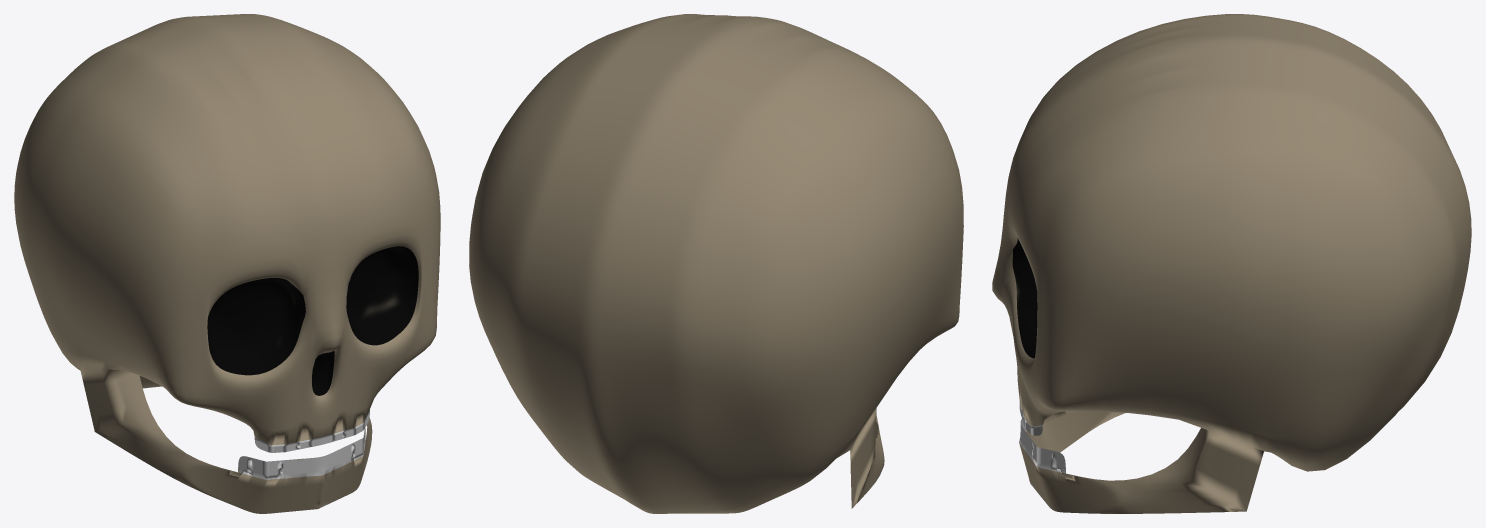
The model's file is Skull_test1.glb.
3 views of the same model, side by side, from view 1: azimuth 30°, elevation 25°; view 2: azimuth 150°, elevation 25°; view 3: azimuth 270°, elevation 25° (orthographic). The views are drawn at different scales.
Visible parts, largest first — view 1: Dup skull.001; view 2: Dup skull.001; view 3: Dup skull.001.
Part boxes in pixels (<box>): Dup skull.001: <box>14,14,440,513</box>; Dup skull.001: <box>469,14,963,513</box>; Dup skull.001: <box>992,14,1471,513</box>.
Bounding box in the file's own units: 0.6862 × 0.7723 × 0.7523.
Materials: 1 (1 with a texture image).
